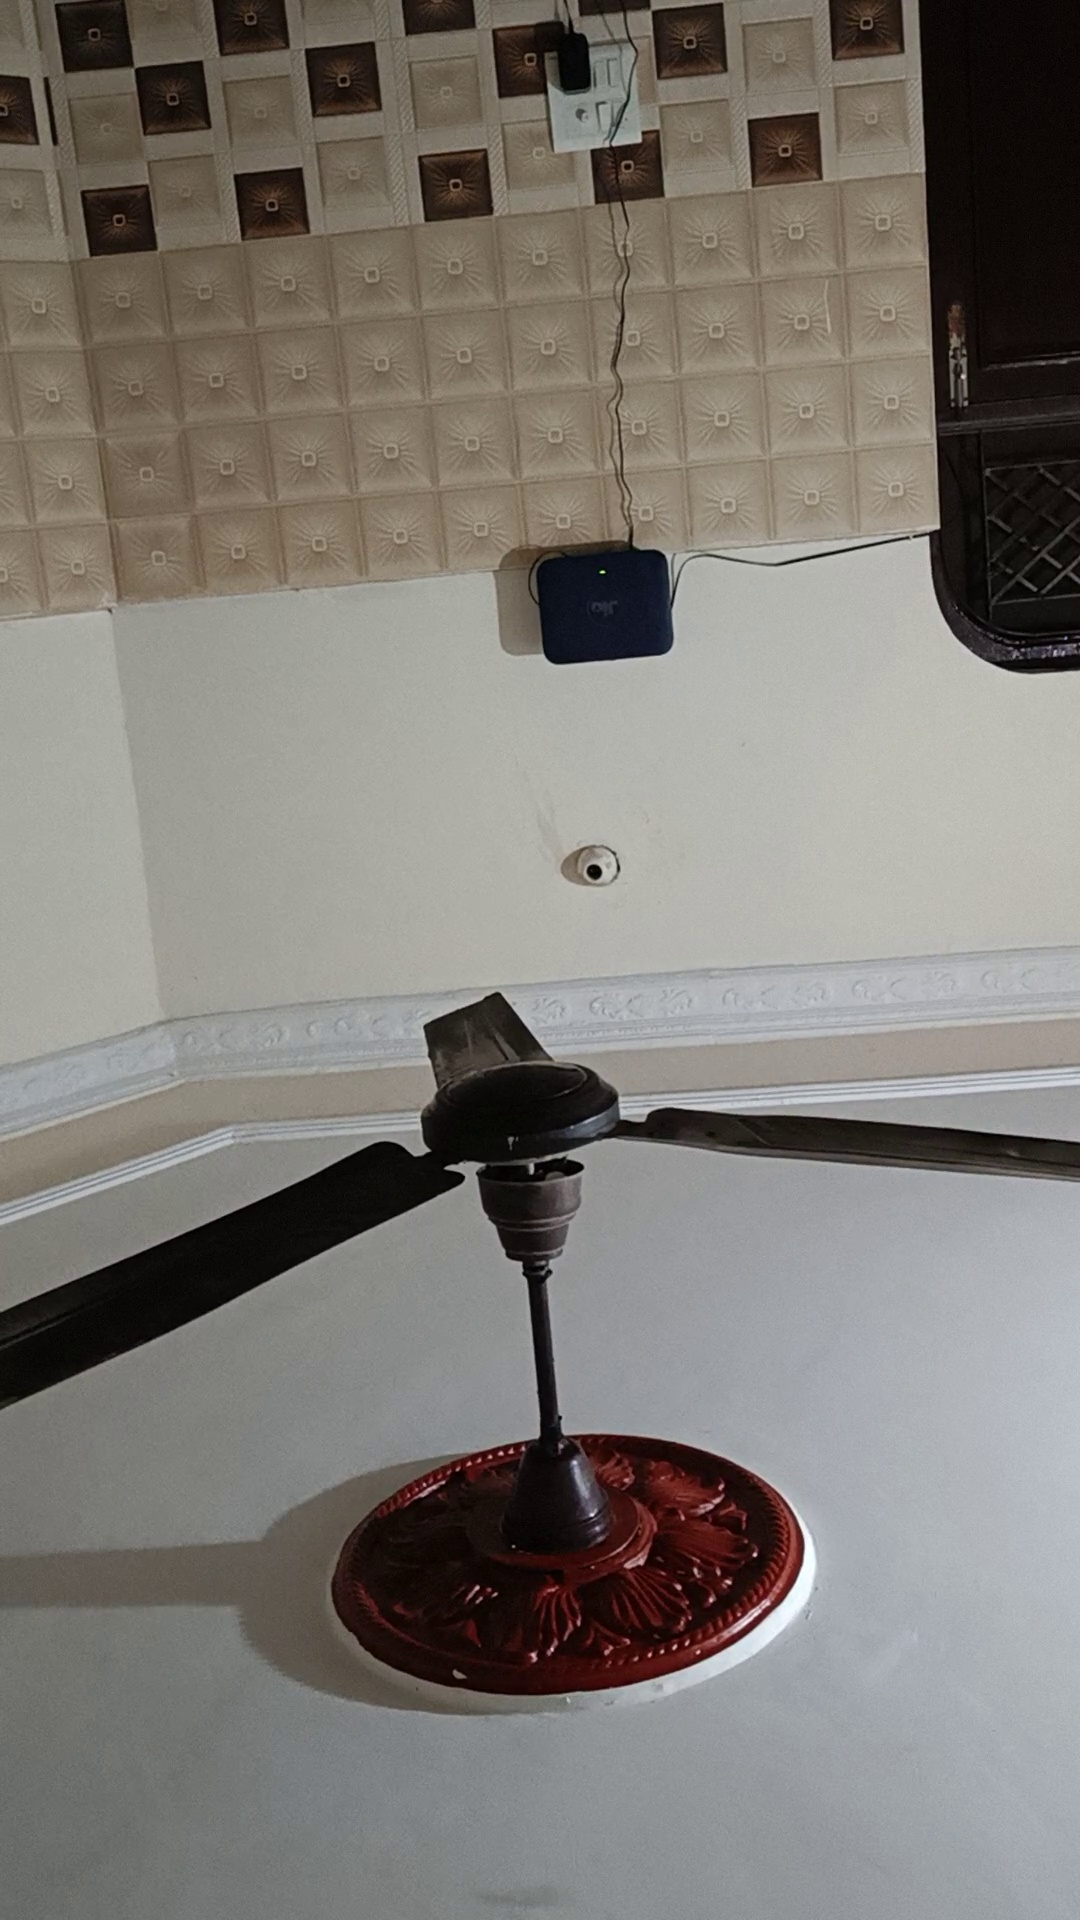fan: (1, 972, 1080, 1400)
